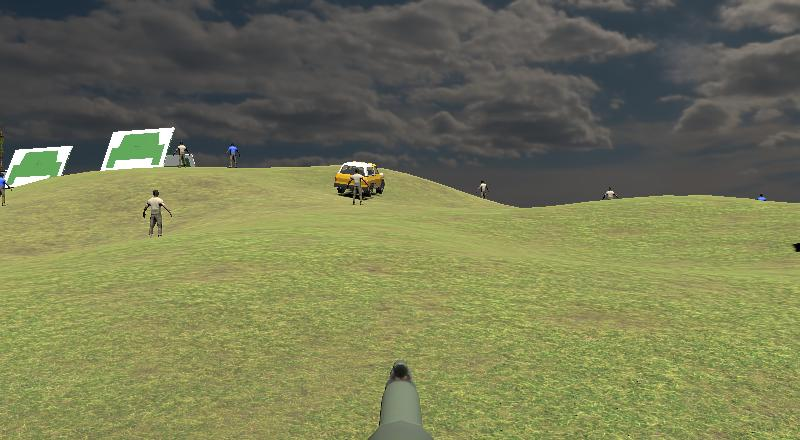Human: (140, 187, 177, 241), (346, 169, 371, 209), (225, 141, 243, 170), (0, 170, 13, 208), (173, 140, 190, 169), (0, 171, 13, 208), (475, 177, 492, 202), (600, 183, 621, 203)
car: (331, 157, 388, 200)
